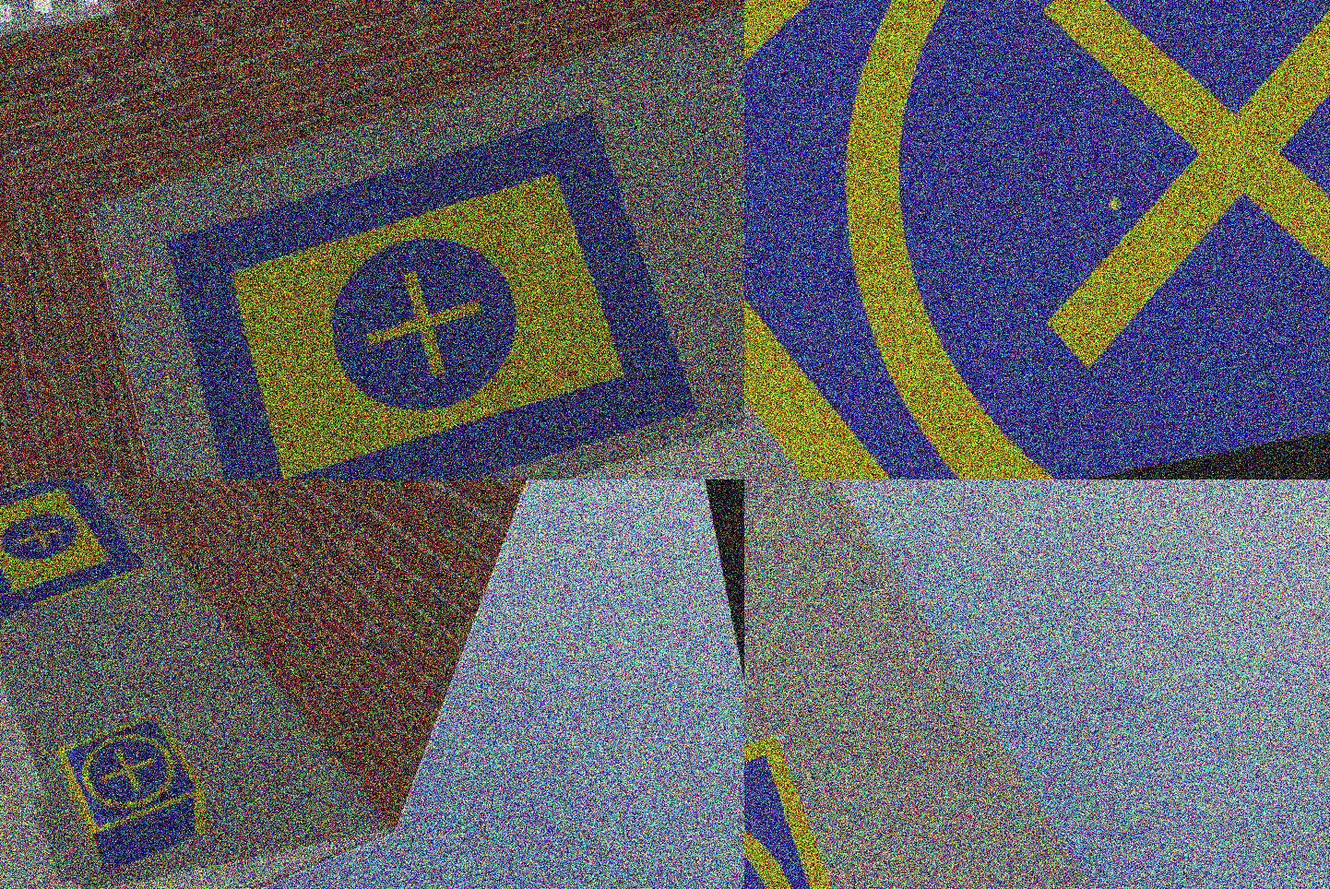large_base: (155, 99, 713, 480), (1, 480, 149, 619)
small_base: (745, 1, 1330, 480), (54, 705, 216, 849)
